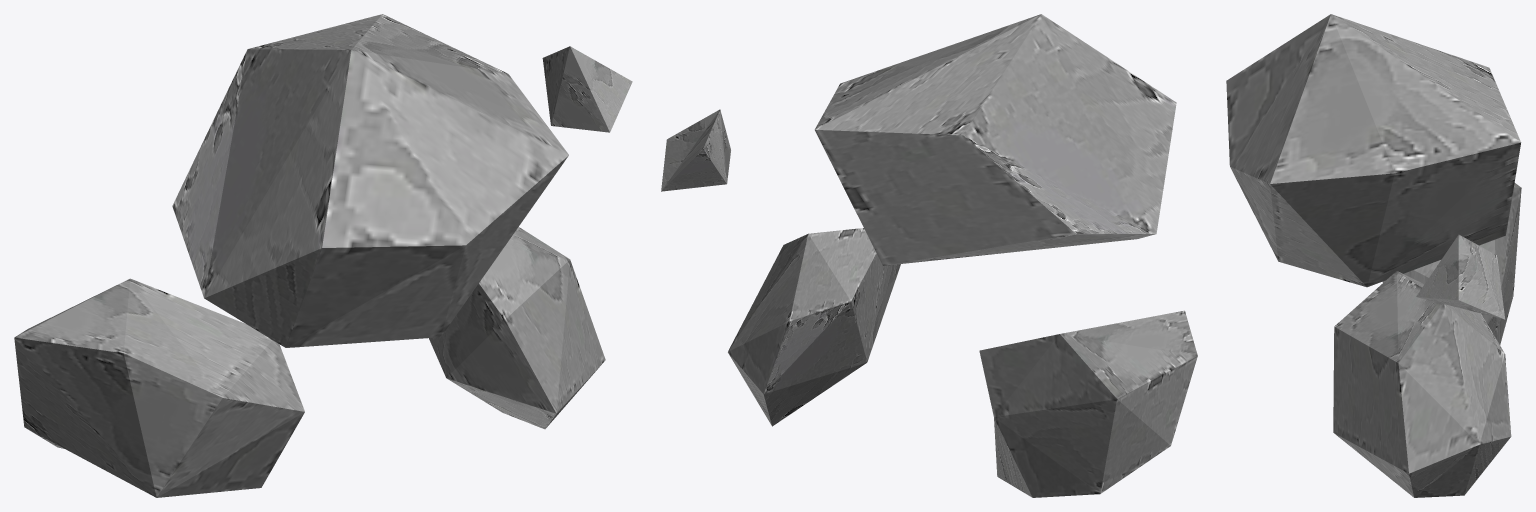
Rendered from prop_rocks.glb.
3 views of the same model, side by side, from view 1: azimuth 30°, elevation 25°; view 2: azimuth 150°, elevation 25°; view 3: azimuth 270°, elevation 25° (orthographic). The views are drawn at different scales.
Visible parts, largest first — view 1: prop_rocks; view 2: prop_rocks; view 3: prop_rocks.
Part boxes in pixels (x1,y1,x2,y2): prop_rocks: (14, 14, 632, 497); prop_rocks: (661, 14, 1197, 497); prop_rocks: (1226, 14, 1521, 497).
Size of the model in its own units: 95.46 by 71.38 by 48.51.
Materials: 1 (1 with a texture image).
